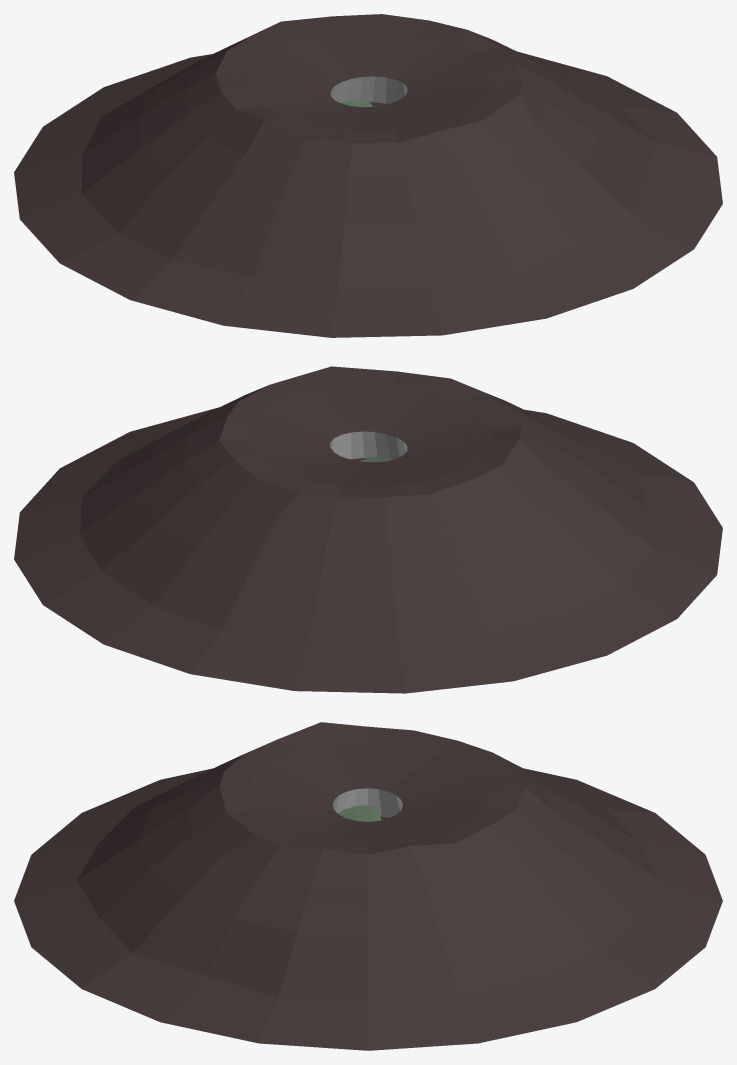
The model's file is HandFromGroundNailsNoDirt_animated.fbx.
3 views of the same model, one above another, from view 1: azimuth 30°, elevation 25°; view 2: azimuth 150°, elevation 25°; view 3: azimuth 270°, elevation 25° (orthographic).
Visible parts, largest first — view 1: Hand out of Ground but nails_dirt; view 2: Hand out of Ground but nails_dirt; view 3: Hand out of Ground but nails_dirt, Hand out of Ground but nails_hand.
Part boxes in pixels (bbox=[...]): Hand out of Ground but nails_dirt: bbox=[14, 14, 722, 337]; Hand out of Ground but nails_dirt: bbox=[14, 366, 722, 693]; Hand out of Ground but nails_dirt: bbox=[14, 722, 722, 1050]; Hand out of Ground but nails_hand: bbox=[338, 805, 380, 821].
Size of the model in its own units: 299 by 54.51 by 299.
